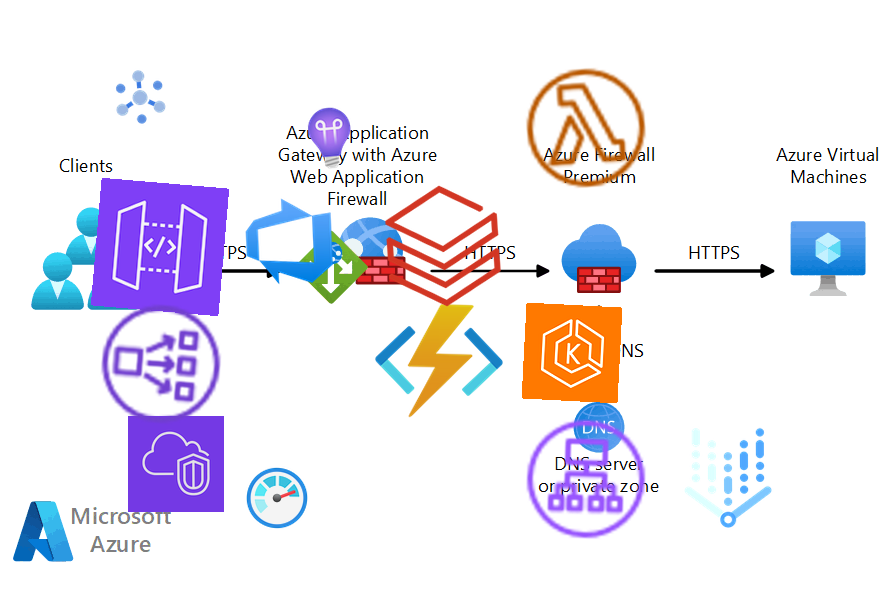aws_amazon_api_gateway: (90, 177, 230, 317)
aws_amazon_elastic_kubernetes_service: (521, 302, 623, 404)
aws_amazon_virtual_private_cloud: (127, 415, 225, 513)
aws_elastic_load_balancing_application_load_balancer: (520, 413, 652, 545)
aws_elastic_load_balancing_network_load_balancer: (92, 295, 230, 433)
aws_lambda_lambda_function: (517, 59, 655, 197)
azure_application_insights: (295, 103, 365, 173)
azure_databricks: (374, 177, 512, 315)
azure_devops: (238, 190, 340, 292)
azure_function_apps: (373, 295, 505, 427)
azure_monitor: (244, 465, 310, 531)
gcp_pubsub: (105, 62, 175, 132)
gcp_vertex_ai: (663, 413, 793, 543)
